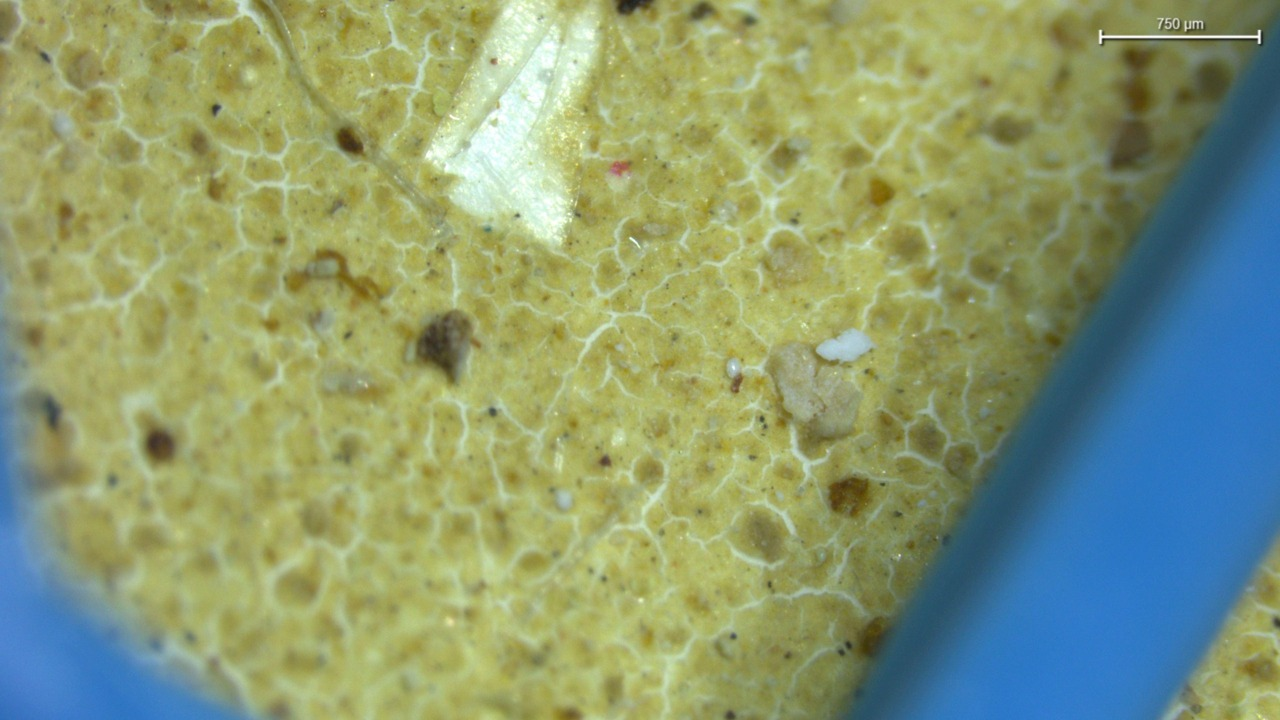microplastic_fragment: (767, 342, 861, 438), (416, 309, 473, 383), (816, 328, 875, 362)
